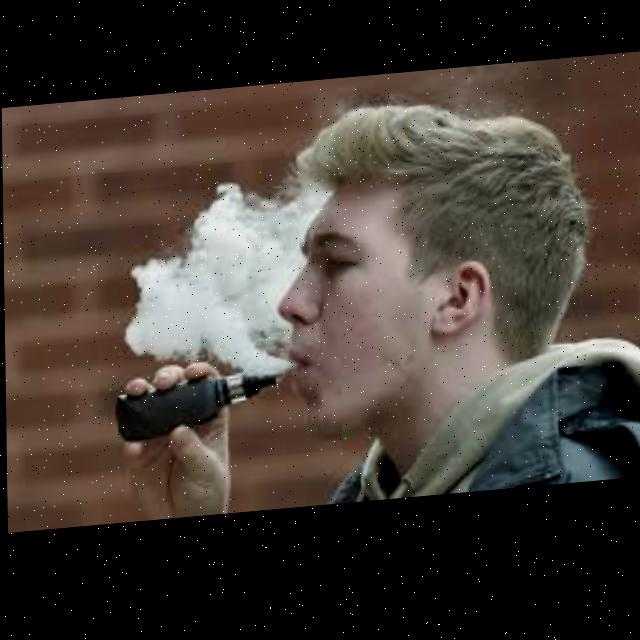vape: (118, 374, 280, 443)
